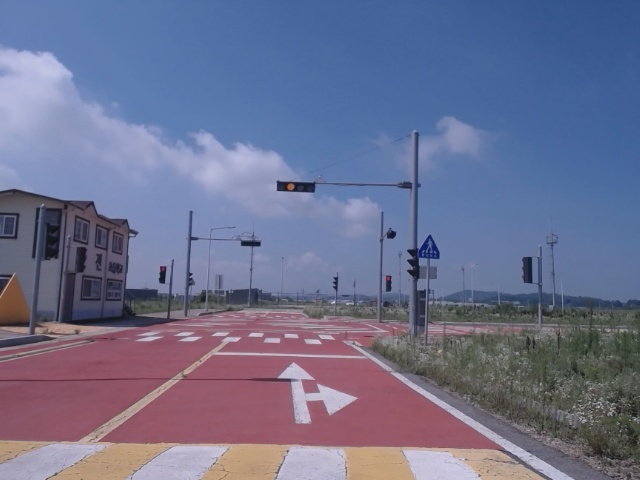orange_4: (277, 181, 317, 193)
